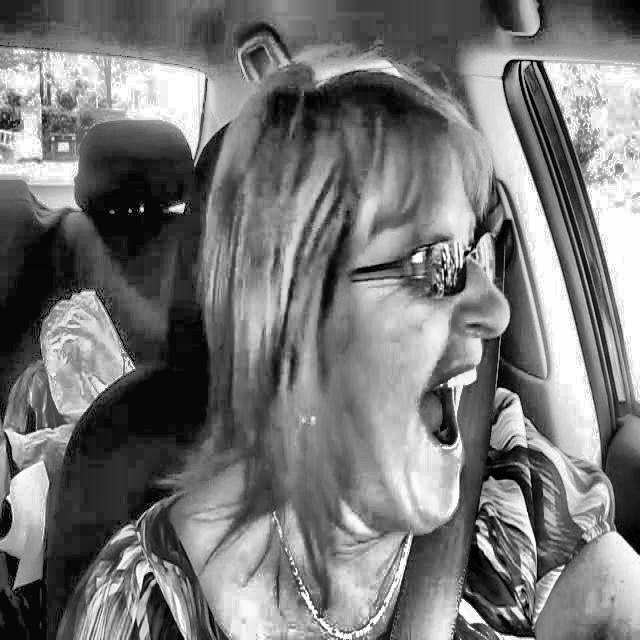open_mouth: (407, 342, 483, 471)
